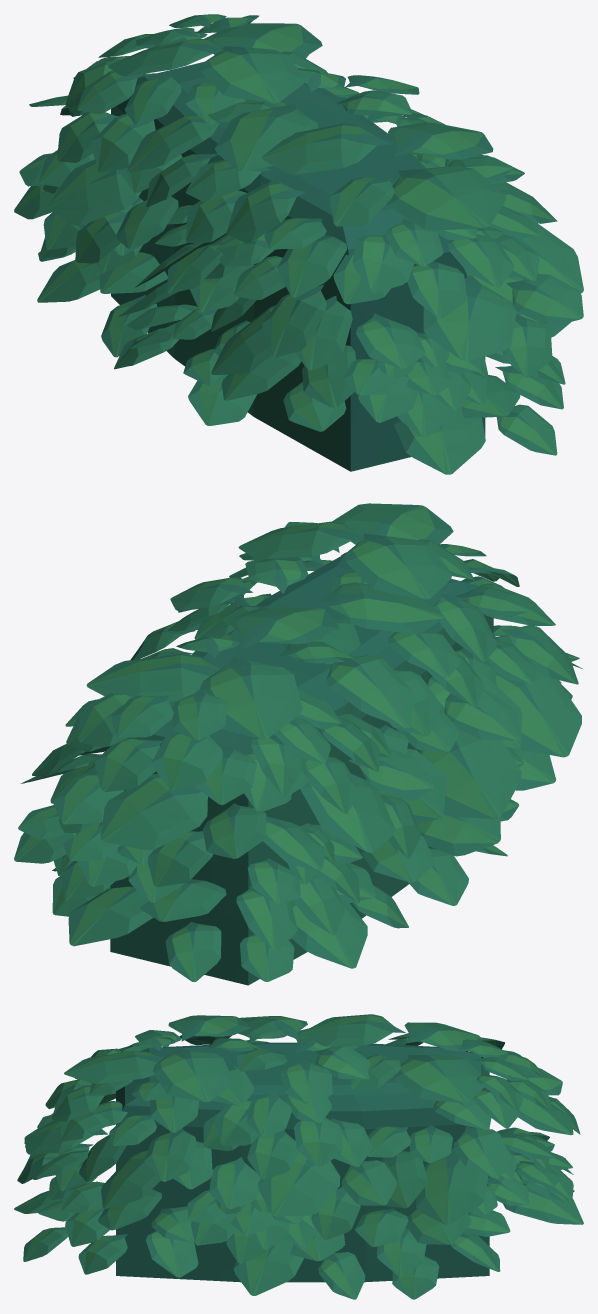
File: Garden_Hedge.fbx
3 renders of one model, top to bottom at view 1: azimuth 30°, elevation 25°; view 2: azimuth 150°, elevation 25°; view 3: azimuth 270°, elevation 25°, orthographic. The views are drawn at different scales.
Visible parts, largest first — view 1: Cylinder.263; view 2: Cylinder.263; view 3: Cylinder.263.
Part boxes in pixels (left/top/right/bottom): Cylinder.263: left=14, top=14, right=583, bottom=474; Cylinder.263: left=14, top=503, right=582, bottom=985; Cylinder.263: left=14, top=1014, right=583, bottom=1299.
Bounding box in the file's own units: 151 × 112 × 258.
